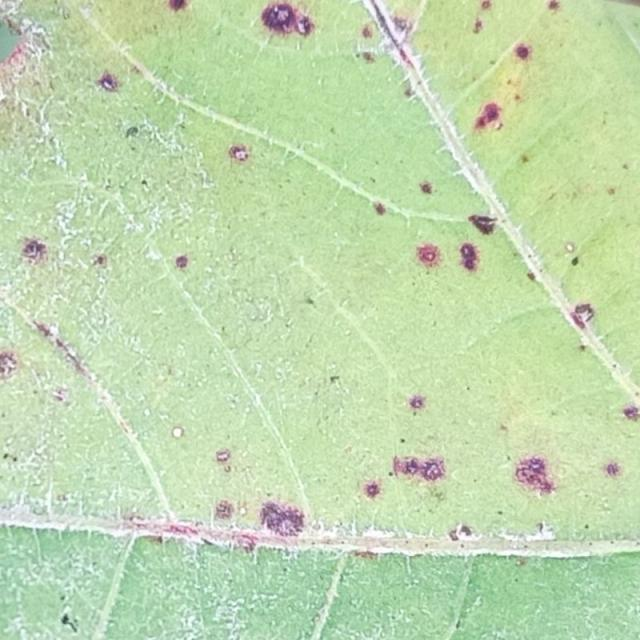Bacterial_Blight: (385, 0, 639, 386), (472, 36, 536, 131), (357, 7, 421, 64), (259, 0, 314, 38), (409, 225, 446, 278), (512, 454, 557, 495), (258, 501, 308, 537), (392, 454, 448, 484), (473, 101, 504, 132), (18, 235, 50, 264), (567, 300, 597, 330), (3, 43, 29, 74), (2, 12, 32, 38), (149, 522, 200, 537), (471, 0, 493, 33), (458, 241, 481, 270), (468, 214, 498, 235), (0, 349, 20, 379), (96, 71, 121, 92), (215, 447, 235, 473), (390, 14, 414, 35), (228, 143, 251, 164), (562, 243, 581, 267), (449, 524, 475, 541), (214, 500, 235, 520), (32, 320, 54, 338), (61, 614, 79, 635), (620, 403, 640, 421), (236, 537, 257, 552), (407, 394, 426, 410), (514, 43, 531, 60), (52, 387, 70, 403), (527, 458, 545, 474), (403, 458, 420, 474), (272, 7, 289, 23), (604, 462, 622, 477), (364, 482, 380, 498), (167, 0, 188, 12), (353, 549, 378, 559), (174, 254, 190, 269), (91, 253, 107, 267), (58, 4, 72, 20), (361, 23, 374, 39), (359, 51, 376, 63), (373, 202, 387, 215), (125, 125, 139, 138), (419, 182, 433, 194), (547, 0, 561, 12), (171, 426, 184, 438), (403, 85, 414, 98), (304, 295, 315, 306), (480, 0, 492, 10), (514, 557, 527, 566), (526, 271, 536, 281), (565, 242, 574, 252), (329, 375, 340, 383), (607, 186, 616, 195), (578, 344, 587, 352)
Cotton: (0, 0, 639, 639)
